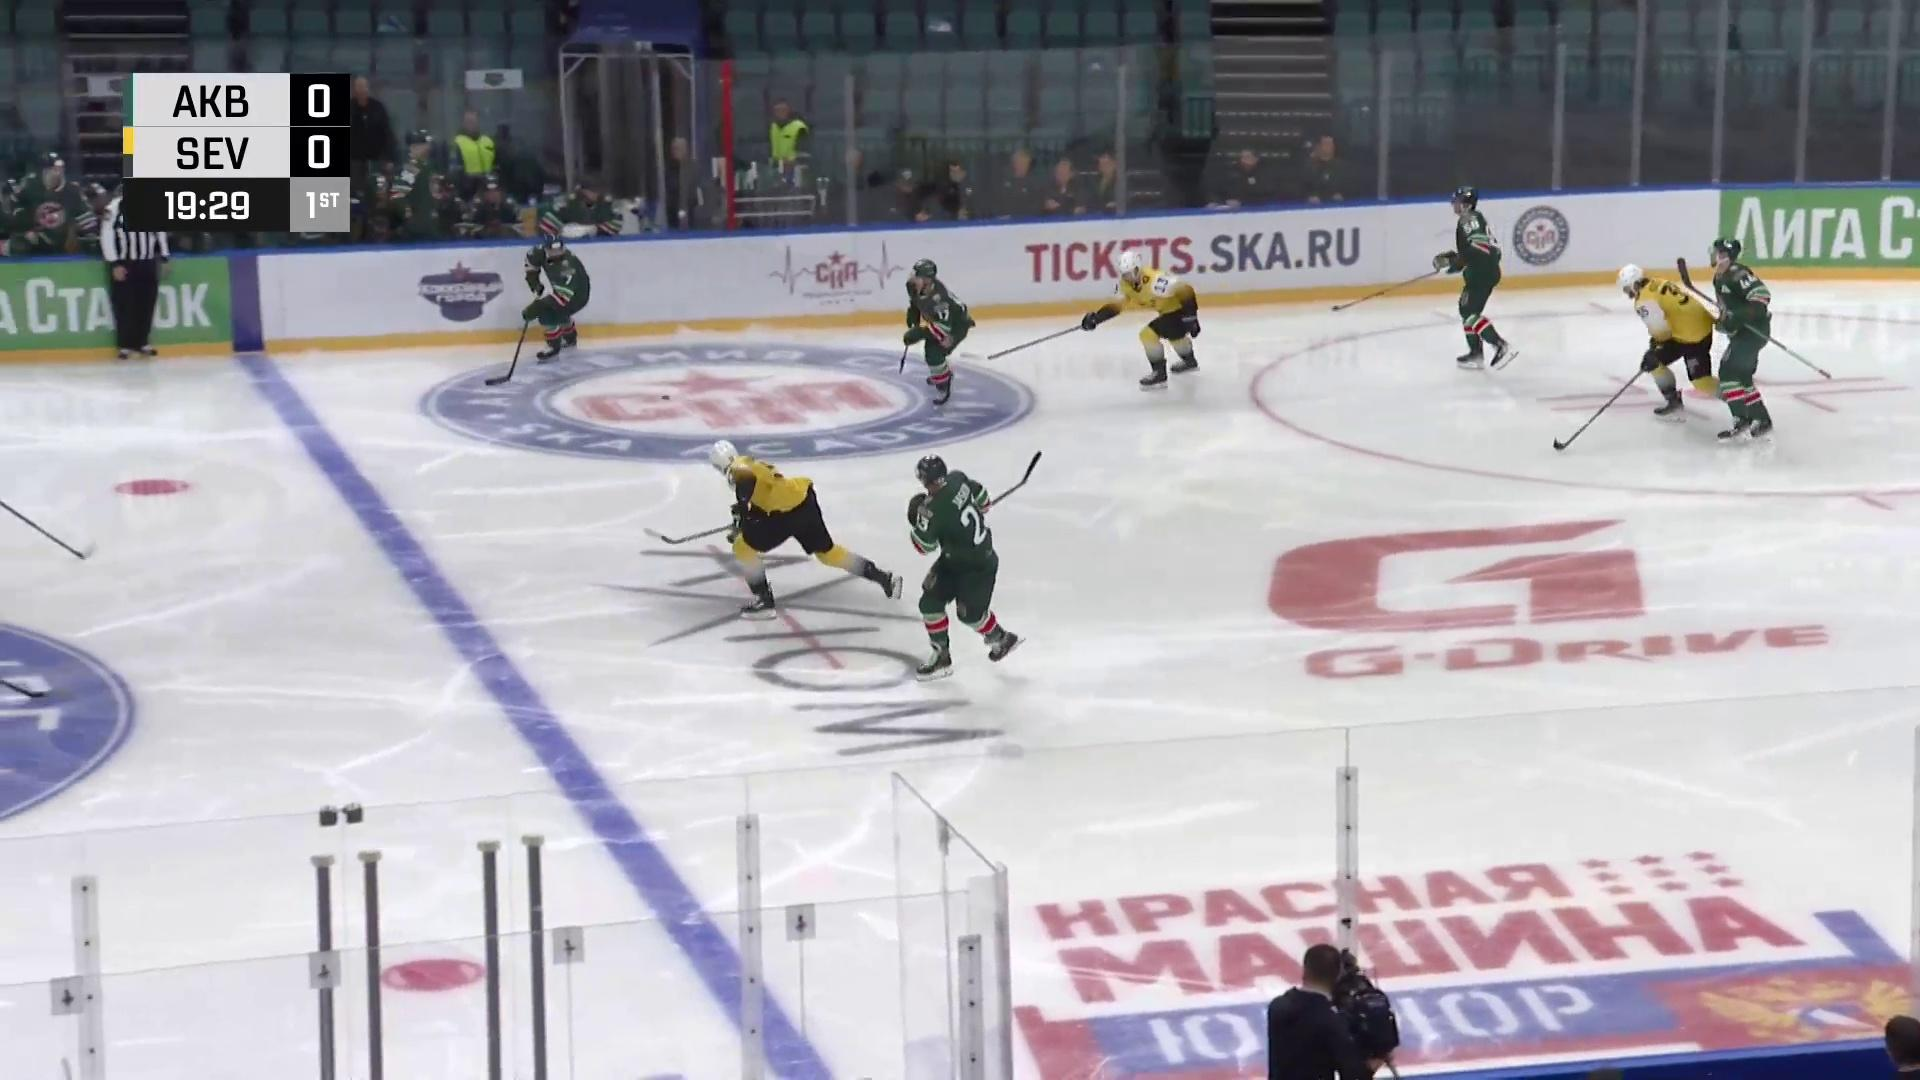ball: (659, 394, 670, 401)
